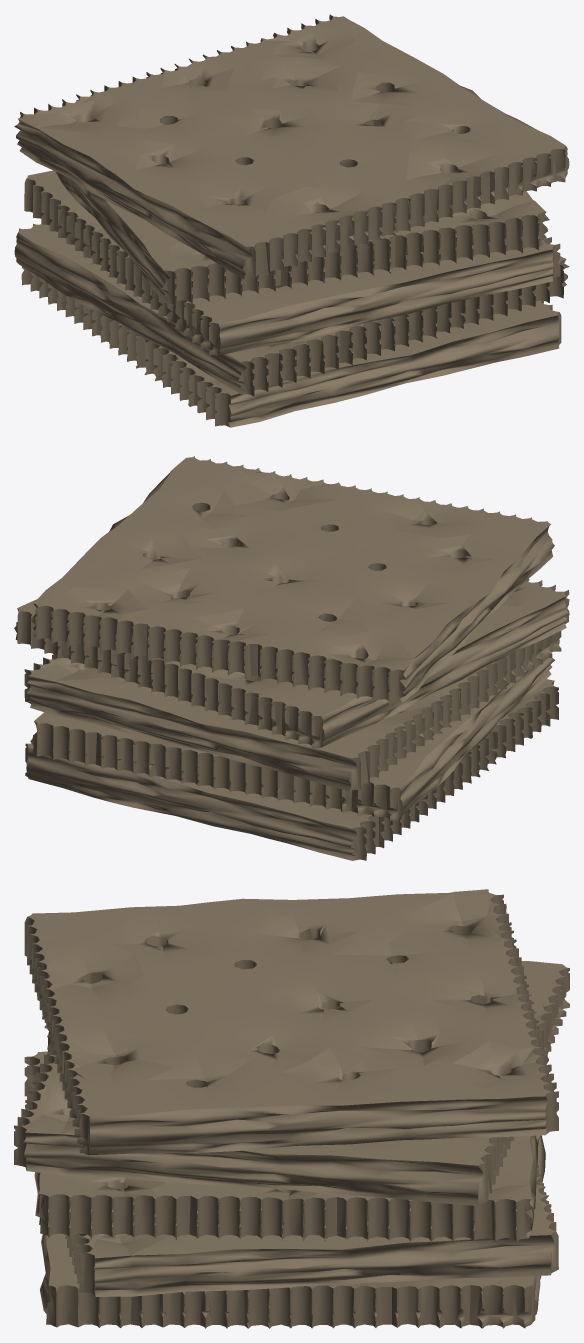
Rendered from cracker.glb.
3 renders of one model, top to bottom at view 1: azimuth 30°, elevation 25°; view 2: azimuth 150°, elevation 25°; view 3: azimuth 270°, elevation 25°, orthographic. The views are drawn at different scales.
Bounding box in the file's own units: 2.35 × 1.02 × 2.28.
